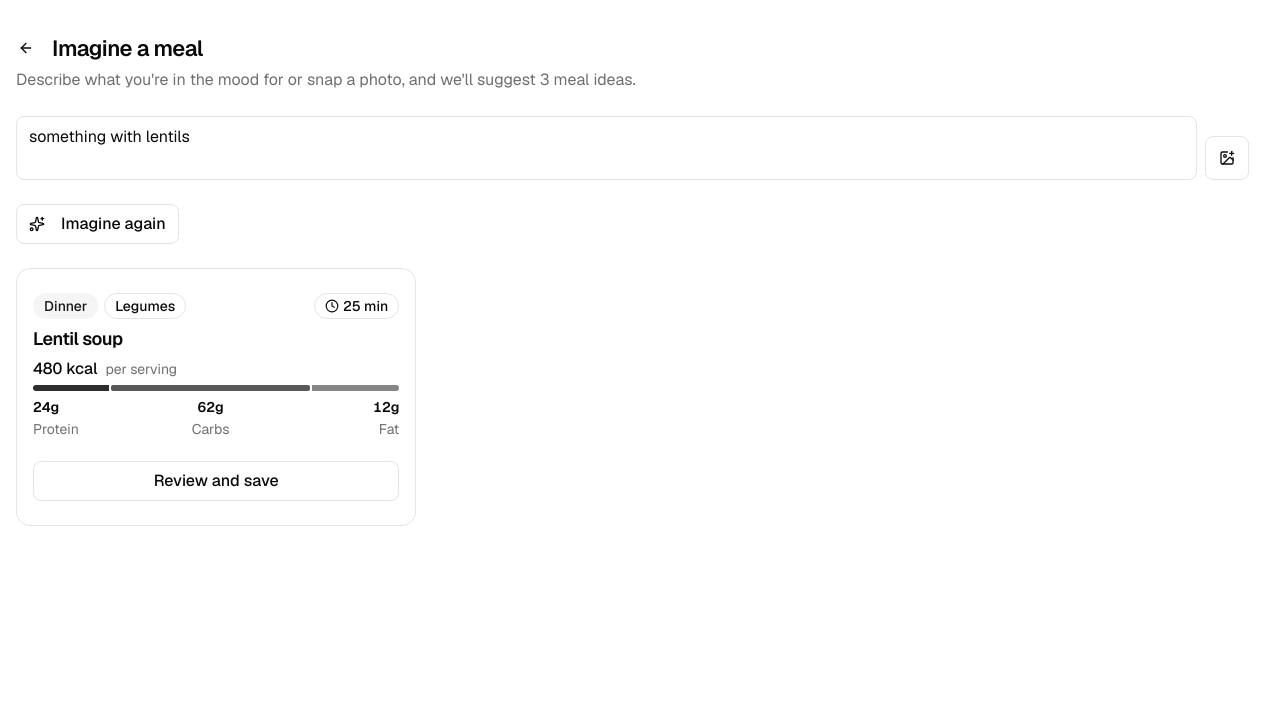
ImagineClient card nutrition and button weight › shows the dialog's nutrition on the card after "Review and save"
Expected: the text "480 kcal" is shown, [33,361,98,377]
Click the button "Review and save" at (216, 481), box [33,461,399,501]
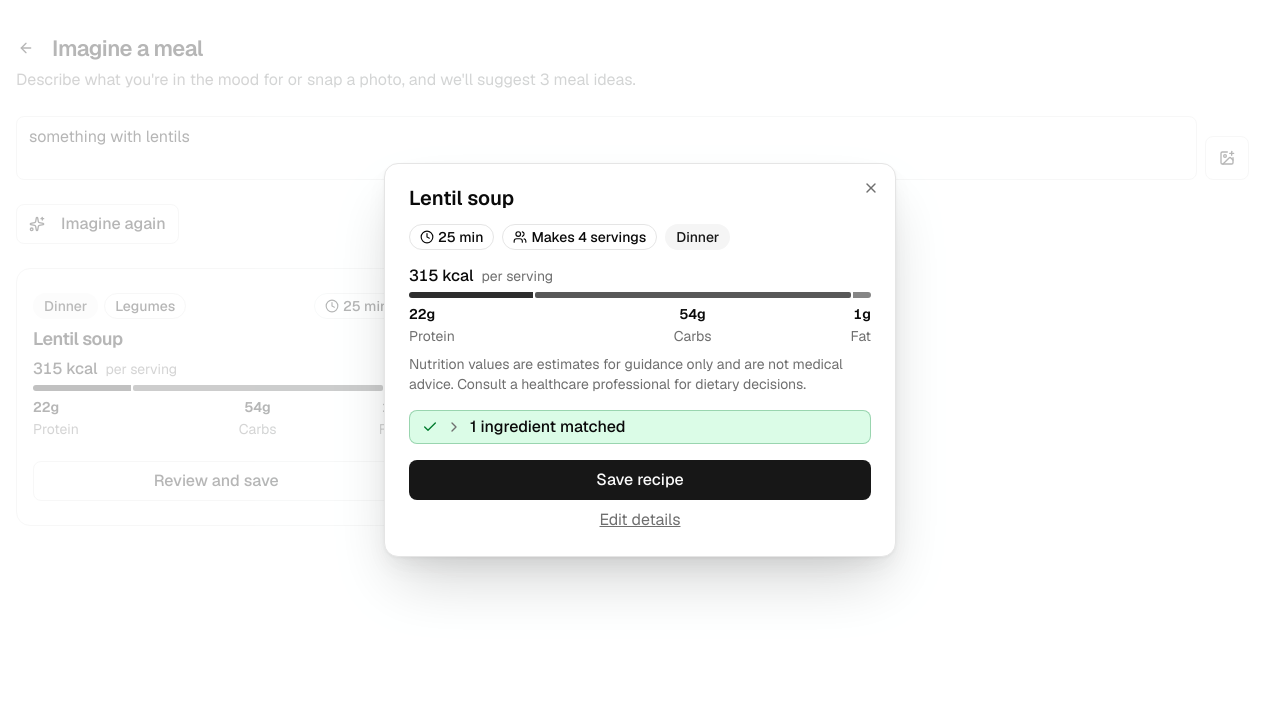
Expected: the text "315 kcal" is shown, [409,268,474,284]
Expected: the text "315 kcal" below "Legumes" is shown, [33,358,98,379]
Expected: the text "480 kcal" is gone
